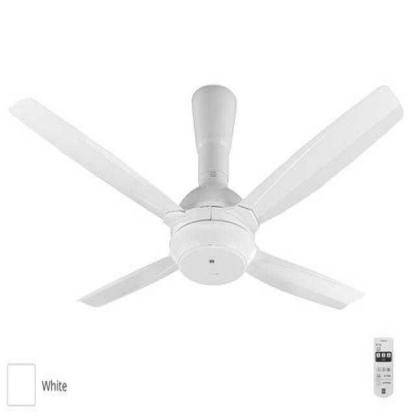ceiling-fan: (7, 83, 405, 309)
